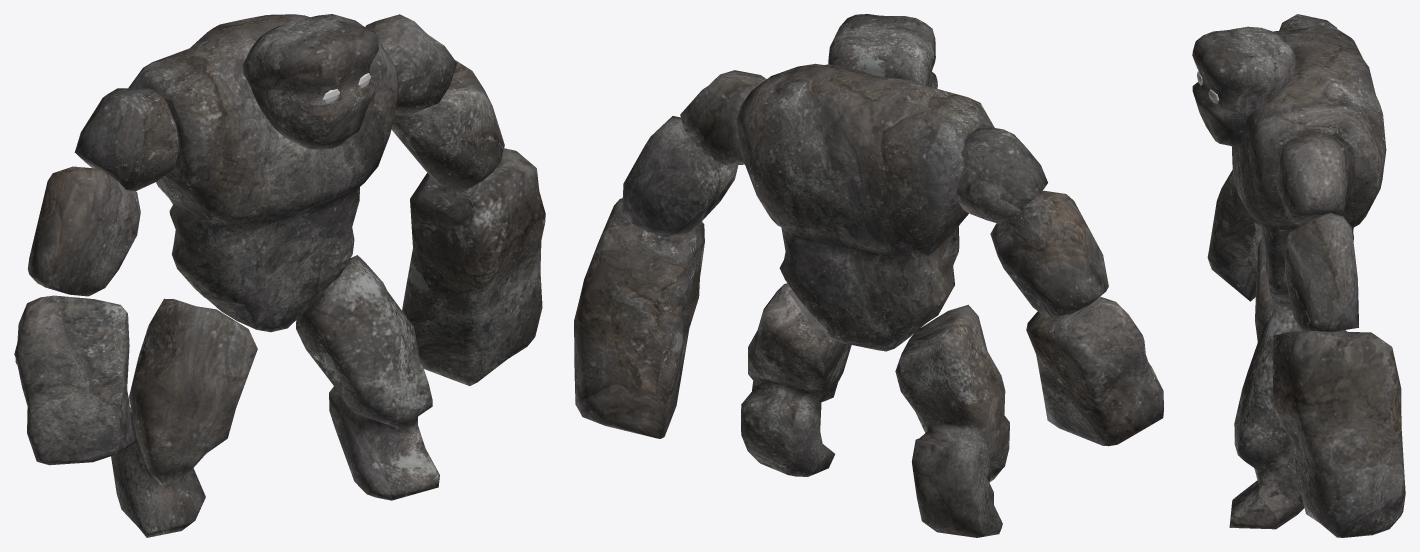
Rendered from walk_000017.obj.
3 views of the same model, side by side, from view 1: azimuth 30°, elevation 25°; view 2: azimuth 150°, elevation 25°; view 3: azimuth 270°, elevation 25° (orthographic). The views are drawn at different scales.
Parts seen in each view (by area): view 1: hands&leg.001_ice.003, torso.001_ice.005, head.001_ice.004; view 2: hands&leg.001_ice.003, torso.001_ice.005, head.001_ice.004; view 3: hands&leg.001_ice.003, torso.001_ice.005, head.001_ice.004.
Boxes of the visible parts, x1,y1,x2,y2 form: hands&leg.001_ice.003: (14, 14, 545, 537); torso.001_ice.005: (128, 14, 399, 332); head.001_ice.004: (243, 15, 378, 149); hands&leg.001_ice.003: (574, 70, 1163, 537); torso.001_ice.005: (736, 63, 994, 351); head.001_ice.004: (828, 14, 937, 88); hands&leg.001_ice.003: (1207, 14, 1405, 537); torso.001_ice.005: (1231, 25, 1386, 310); head.001_ice.004: (1192, 26, 1296, 146).
Size of the model in its own units: 11.52 by 9.58 by 4.12.
2 materials, 1 textured.
